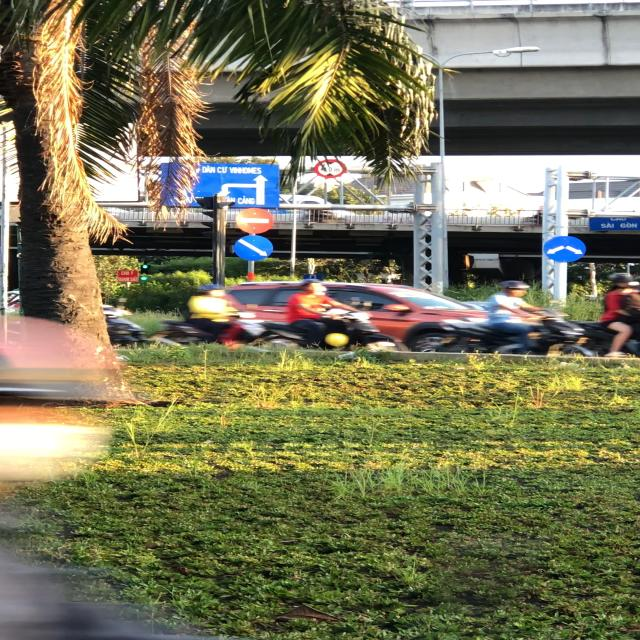Bien bao cam di nguoc chieu: (228, 206, 277, 235)
Bien bao han che chieu cao: (312, 158, 352, 180)
Bien bao huong phai di vong chuong ngai vat: (536, 233, 594, 265), (230, 234, 277, 264)
